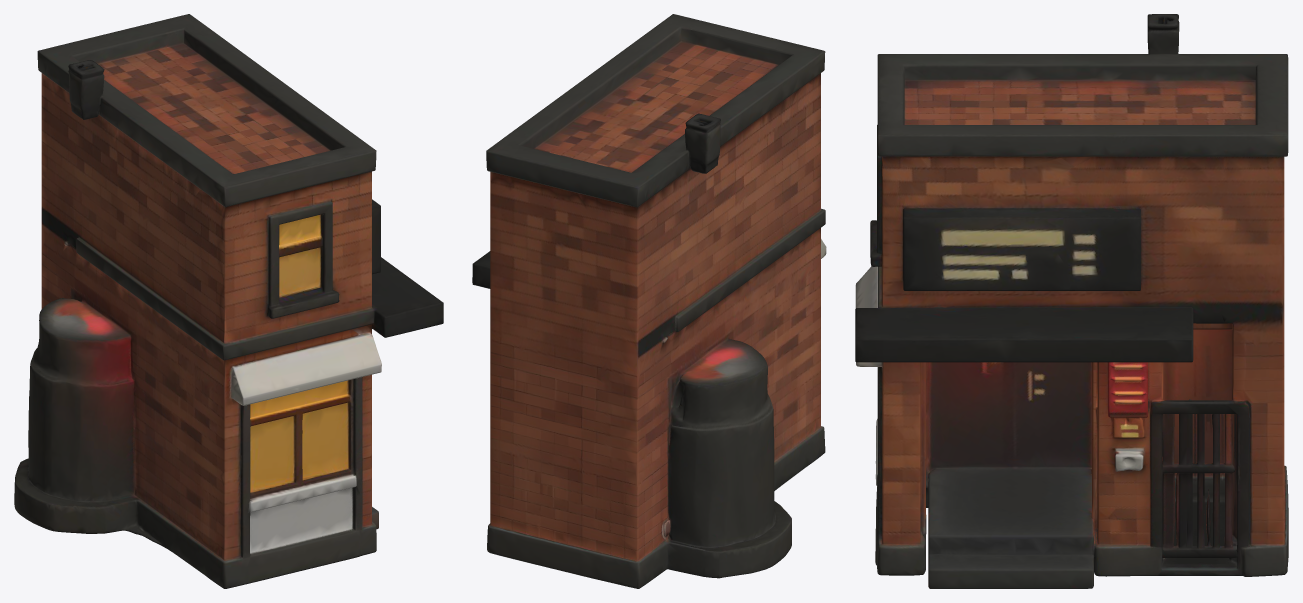
The model's file is bolero.glb.
3 views of the same model, side by side, from view 1: azimuth 30°, elevation 25°; view 2: azimuth 150°, elevation 25°; view 3: azimuth 270°, elevation 25° (orthographic). The views are drawn at different scales.
Parts seen in each view (by area): view 1: tripo_node_c3969c55-9871-4f79-83d6-eb9c003c34ec; view 2: tripo_node_c3969c55-9871-4f79-83d6-eb9c003c34ec; view 3: tripo_node_c3969c55-9871-4f79-83d6-eb9c003c34ec.
Boxes of the visible parts, left/top/right/bottom form: tripo_node_c3969c55-9871-4f79-83d6-eb9c003c34ec: left=14, top=14, right=443, bottom=588; tripo_node_c3969c55-9871-4f79-83d6-eb9c003c34ec: left=472, top=14, right=826, bottom=588; tripo_node_c3969c55-9871-4f79-83d6-eb9c003c34ec: left=855, top=14, right=1288, bottom=588.
Bounding box in the file's own units: 0.6981 × 0.9999 × 0.8345.
Materials: 1 (1 with a texture image).
